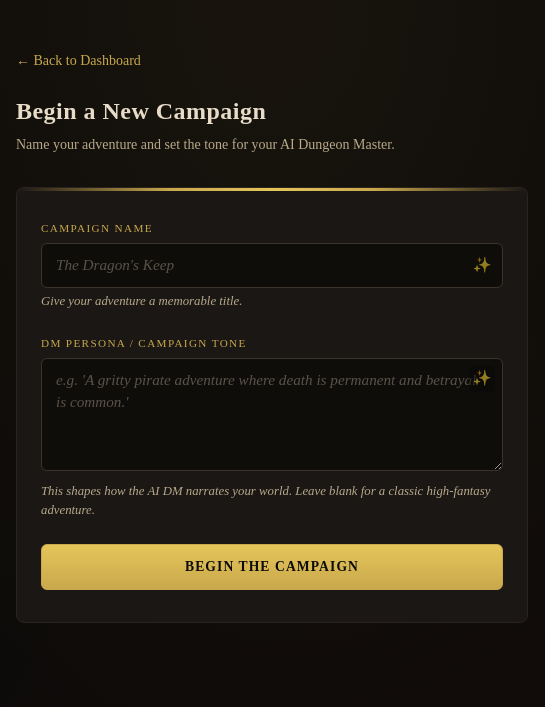
Test: CreateGameForm › error handling › shows generic error when fetch throws (network error)
The width and height of the screenshot is (545, 707).
Type "Test" into the field with test id "game-name-input".
click(272, 265); type("Test")  # box [41, 243, 503, 288]
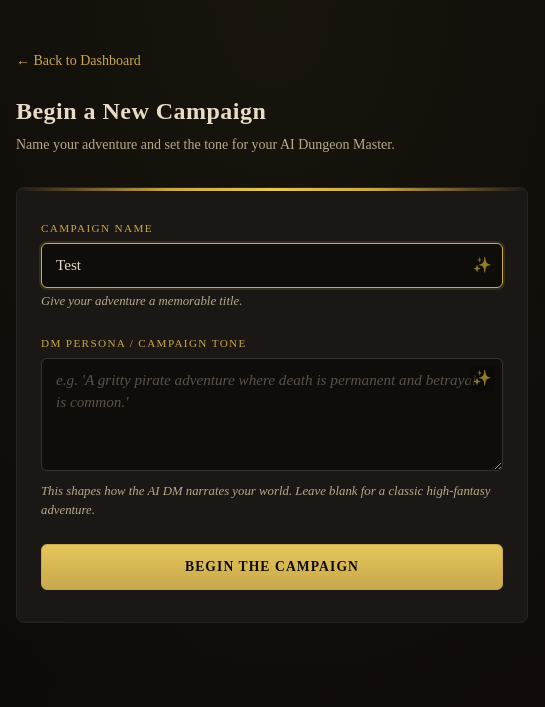
Click the button with test id "submit-button".
click(272, 567)  # box [41, 544, 503, 590]
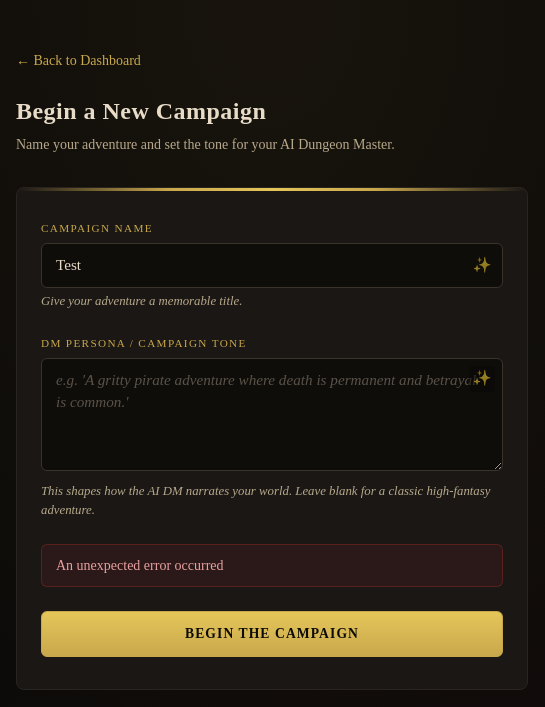
Check: the text with test id "form-error" reads "An unexpected error occurred", box [56, 558, 224, 573]
